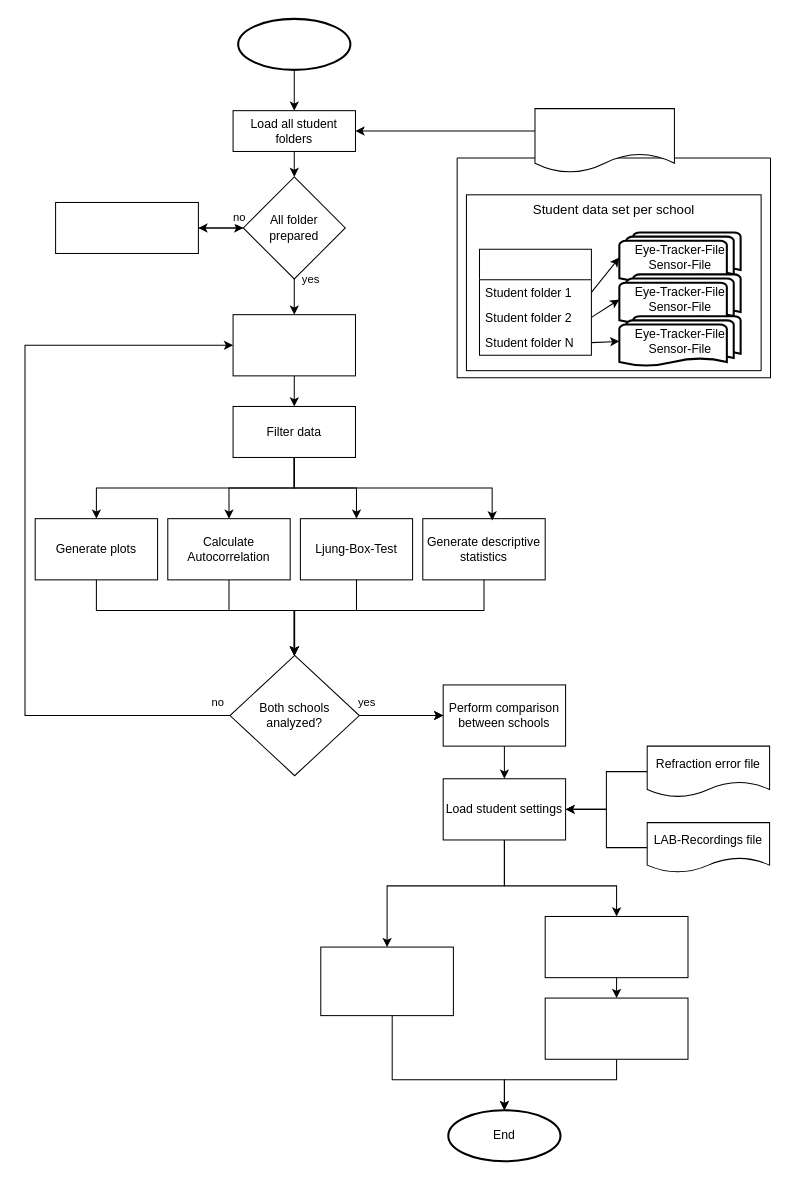
This 798x1179 diagram has some shape labels left out. Here are the shapes that lost their labels. From the top down, the box of each, then its label:
(237, 17, 351, 70): Start
(534, 108, 674, 173): Config-File (Yaml-Configuration)
(55, 201, 198, 253): Prepare data (Student preparing steps)
(478, 248, 591, 355): Students folders
(232, 314, 355, 376): Load LIDAR files for school
(544, 915, 688, 978): Two sampled KS-Test school type
(320, 946, 453, 1016): Visualize differences
(544, 997, 688, 1059): Two sampled KS-Test mopic, emmetropic
